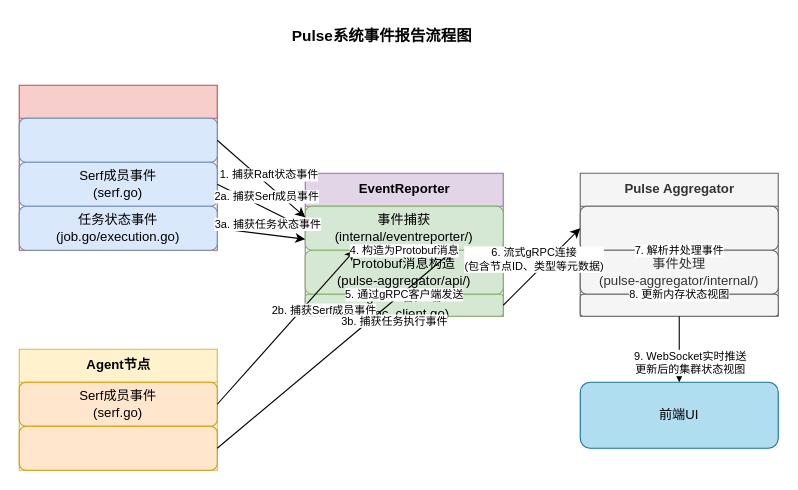
This 798x490 diagram has some shape labels left out. The box of each missing label's shape, as (x1, y1, x2, y2) in pixels:
gRPC服务器 (pulse-aggregator/internal/): (579, 205, 778, 250)
Raft状态事件 (内部实现): (18, 117, 217, 162)
Server节点: (18, 84, 217, 250)
WebSocket服务器 (前端UI实时推送): (579, 293, 778, 316)
任务执行事件 (agent.go/execution.go): (18, 425, 217, 470)
